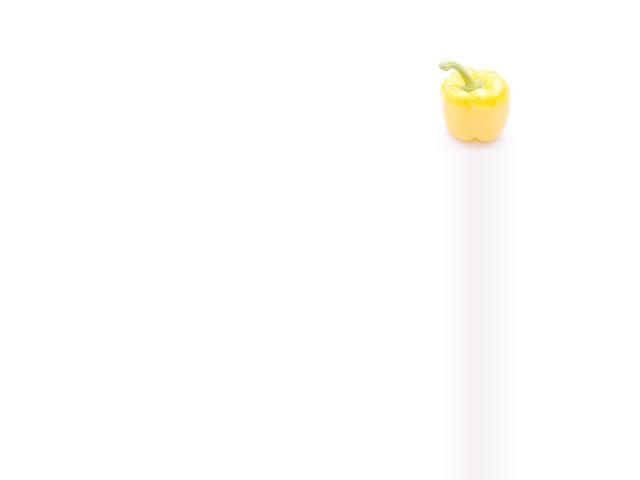bell_pepper: (436, 63, 516, 144)
